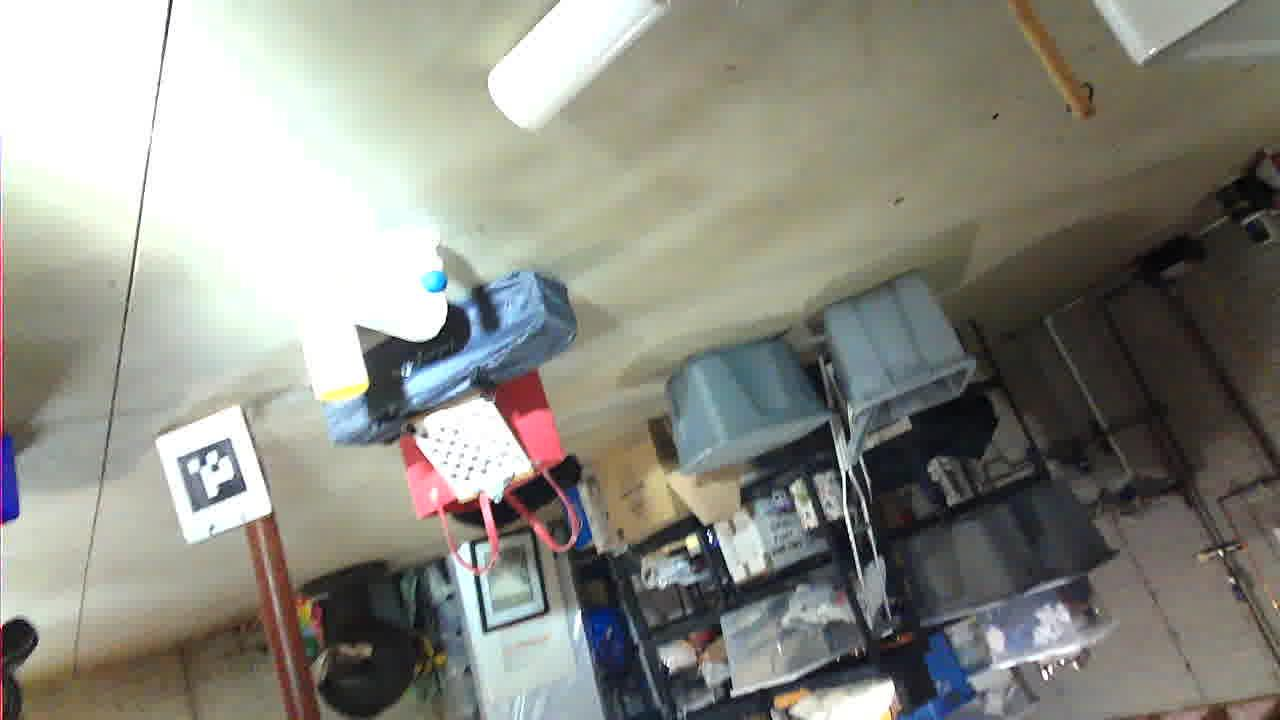coral: (610, 590, 793, 720)
